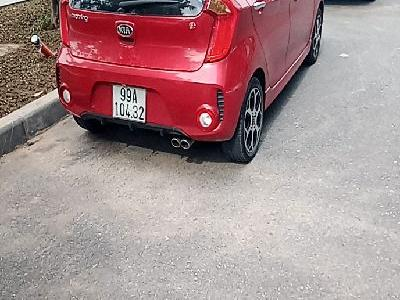car: (112, 84, 147, 123)
